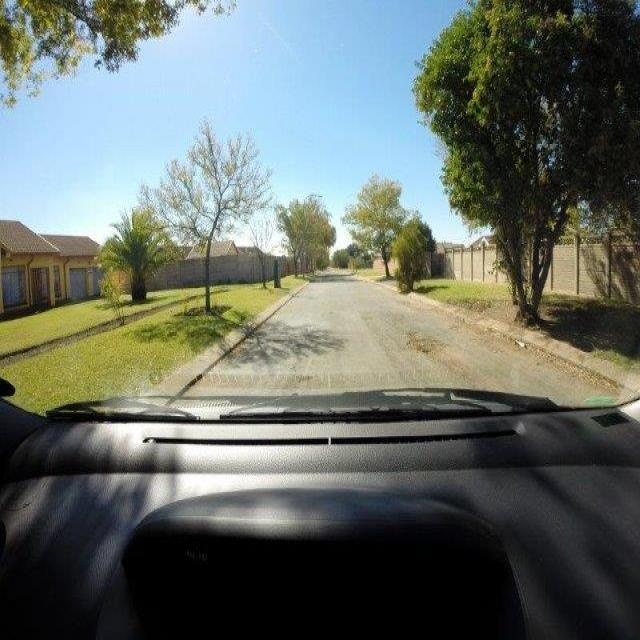lubang: (404, 328, 458, 363)
